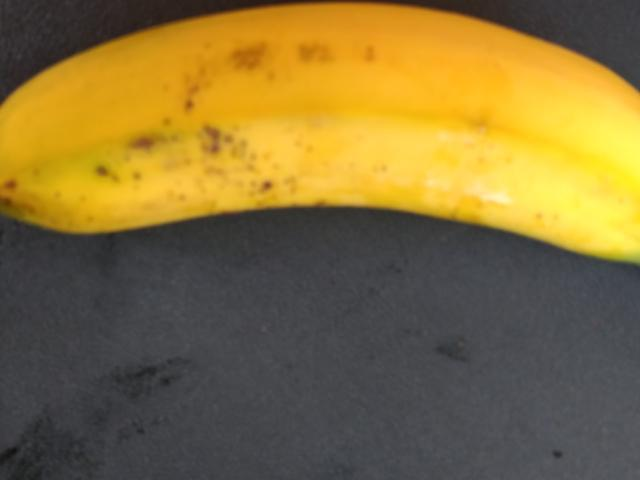ripe: (5, 0, 639, 265)
